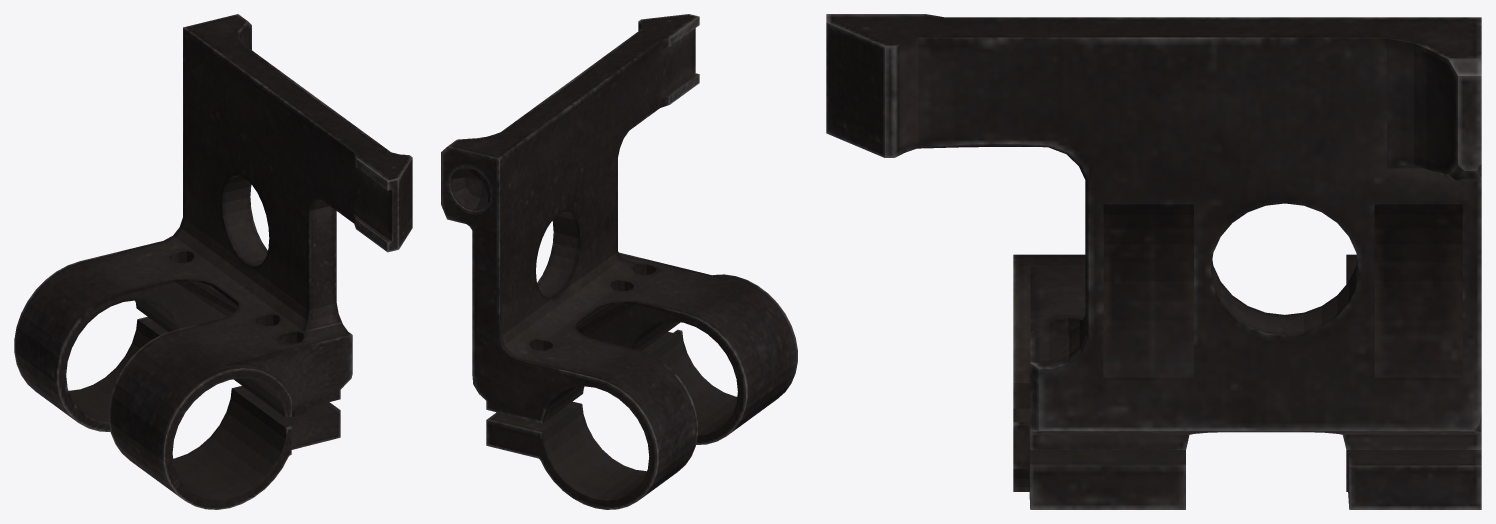
The picture shows the model from 3 angles, left to right: view 1: azimuth 30°, elevation 25°; view 2: azimuth 150°, elevation 25°; view 3: azimuth 270°, elevation 25°; orthographic projection. The views are drawn at different scales.
Visible parts, largest first — view 1: TW_5b3f7c005acfc4704b4a1de8_PZ_Import; view 2: TW_5b3f7c005acfc4704b4a1de8_PZ_Import; view 3: TW_5b3f7c005acfc4704b4a1de8_PZ_Import.
Part boxes in pixels (x1=…): TW_5b3f7c005acfc4704b4a1de8_PZ_Import: x1=14, y1=14, x2=412, y2=509; TW_5b3f7c005acfc4704b4a1de8_PZ_Import: x1=441, y1=14, x2=797, y2=509; TW_5b3f7c005acfc4704b4a1de8_PZ_Import: x1=826, y1=14, x2=1481, y2=509.
Size of the model in its own units: 0.0308 by 0.0485 by 0.0443.
Materials: 1 (1 with a texture image).
